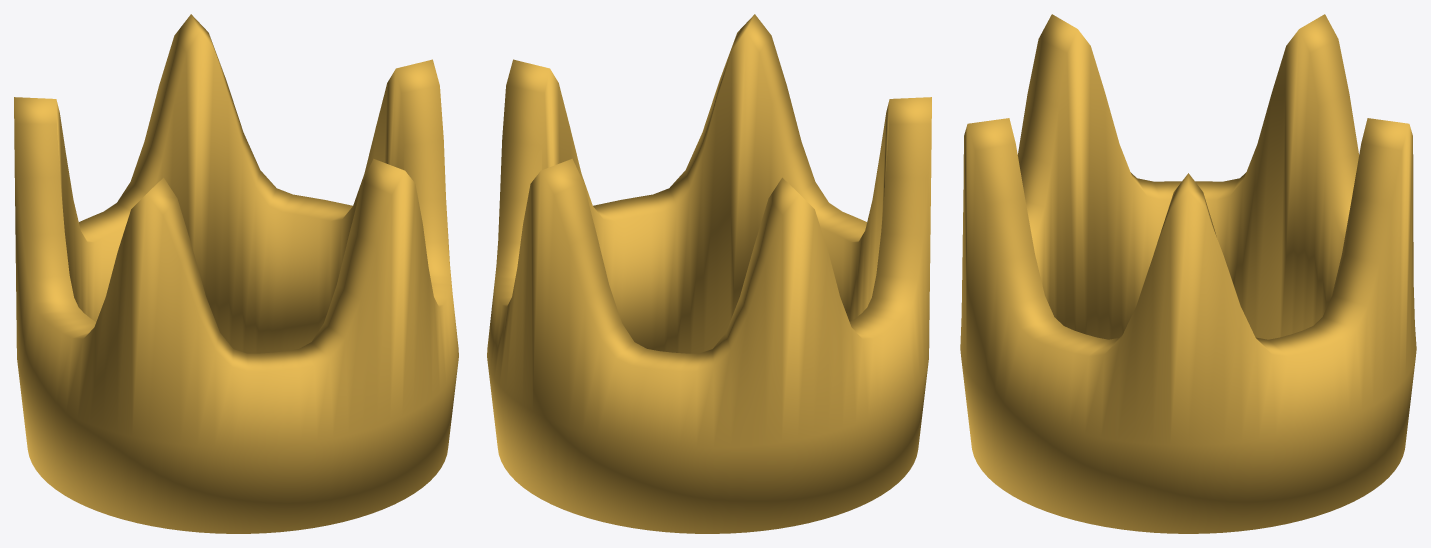
File: crown-topper.glb
3 renders of one model, left to right at view 1: azimuth 30°, elevation 25°; view 2: azimuth 150°, elevation 25°; view 3: azimuth 270°, elevation 25°, orthographic. The views are drawn at different scales.
Visible parts, largest first — view 1: Crown_Topper; view 2: Crown_Topper; view 3: Crown_Topper.
Part boxes in pixels (bbox=[...]): Crown_Topper: bbox=[14, 14, 458, 533]; Crown_Topper: bbox=[487, 14, 931, 533]; Crown_Topper: bbox=[960, 14, 1416, 533].
Size of the model in its own units: 0.335 by 0.28 by 0.332.
